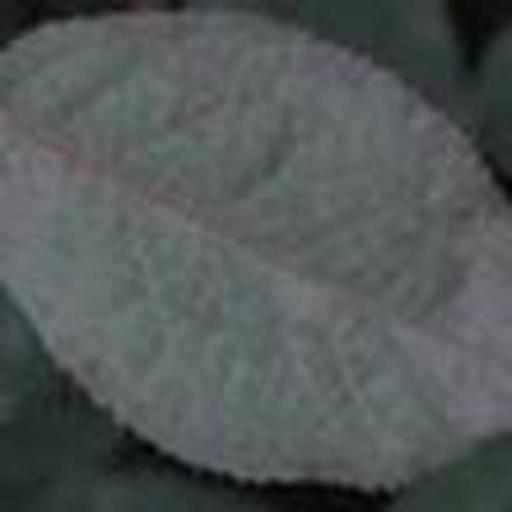powdery_mildew: (0, 11, 512, 490)
